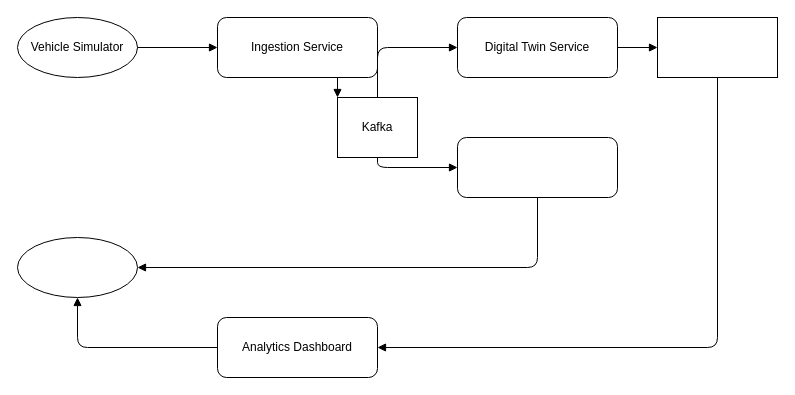
Image size: 795x395. Some labels were removed from this diagram. Here are the shapes that lost their labels. From the top down, the centre of each, then its label:
the point at 717,47: Redis (Digital Twin)
the point at 537,167: OTA Orchestration
the point at 77,267: Operator (User)
